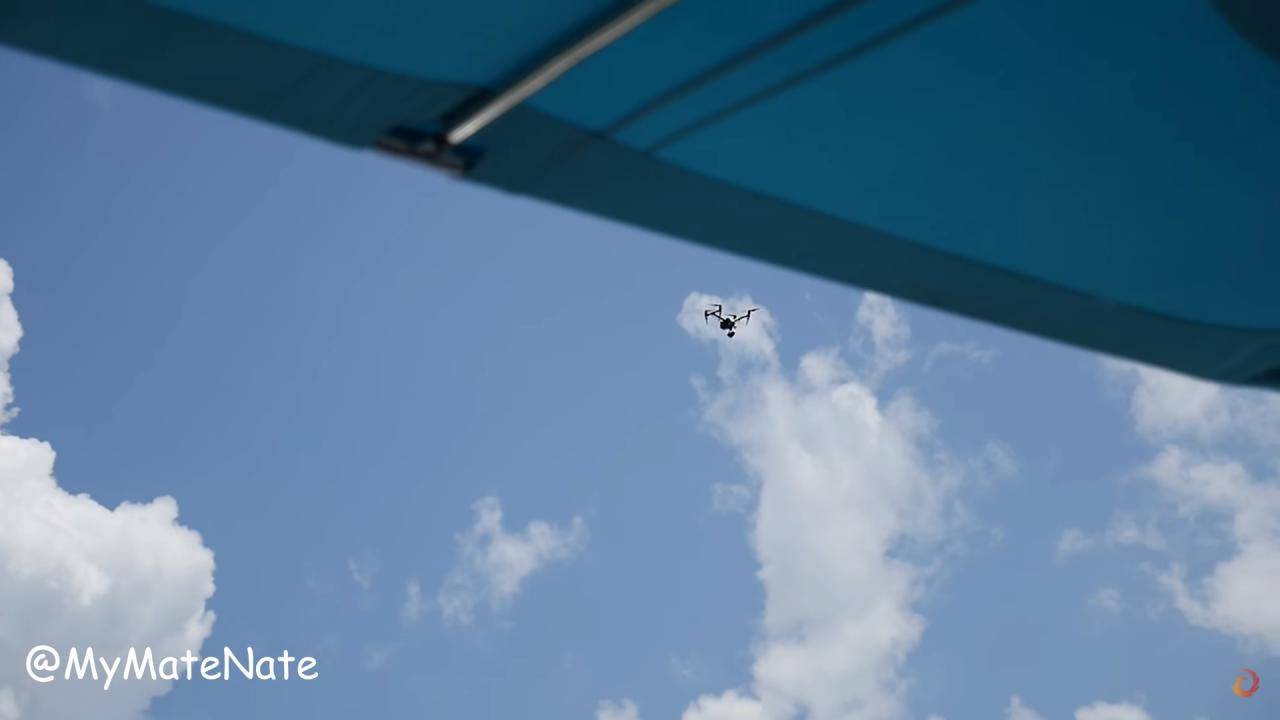Drone: (694, 296, 768, 349)
